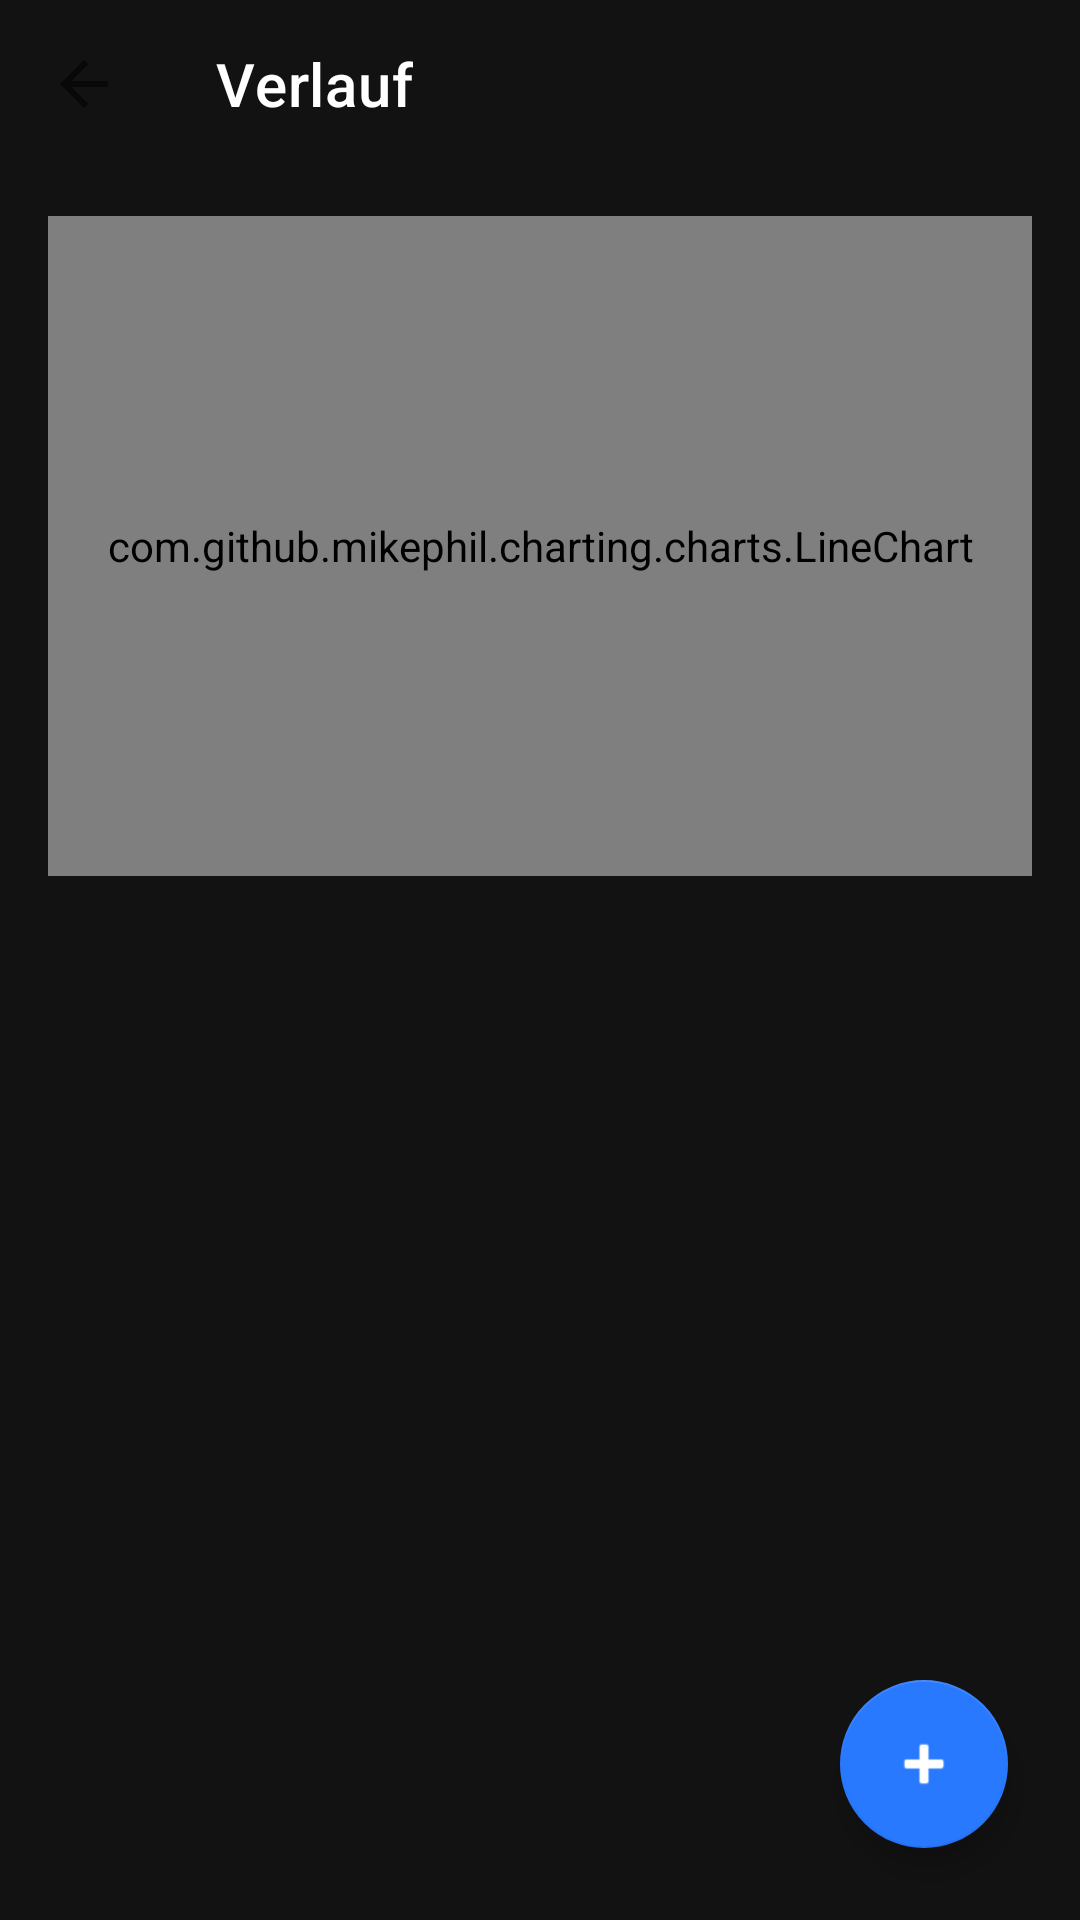

Icon click points for this 1080w x 1920h phone screenshot, format [x,y]:
Eintrag hinzufügen: [924,1764]
